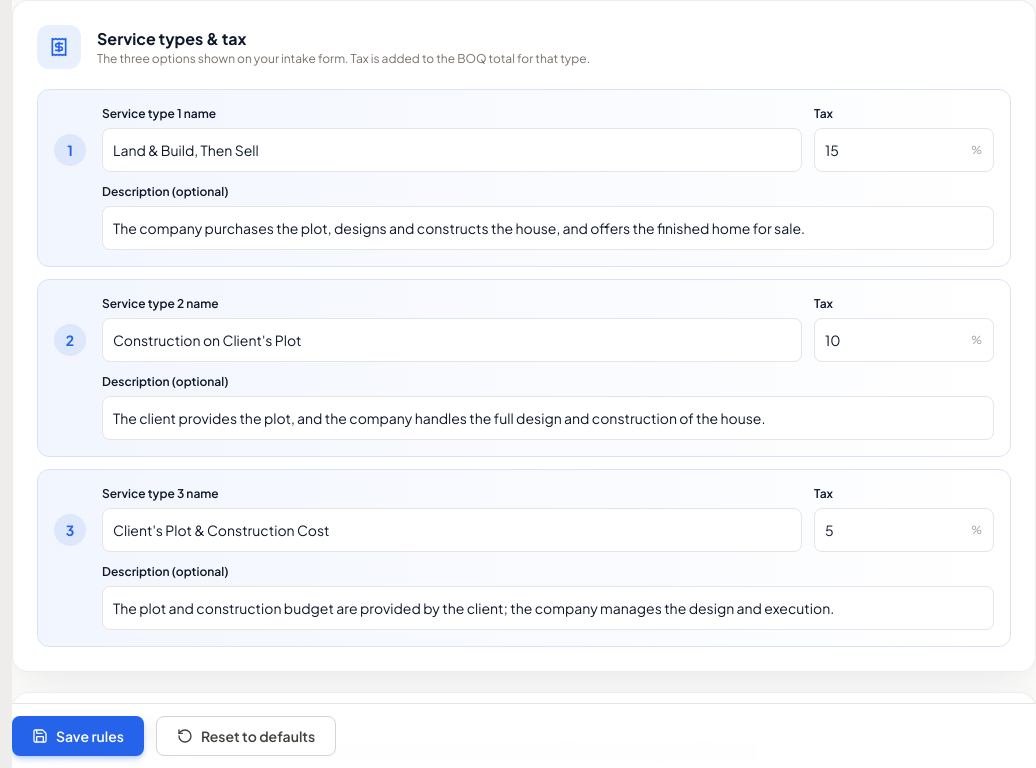
it: RulesForm › shows the server's validation error and no success message
The image size is (1036, 768).
What coordinates should you click on to do the following:
click the button "Save rules"
I would click on:
 (78, 736)
Its box is [12, 716, 144, 756].
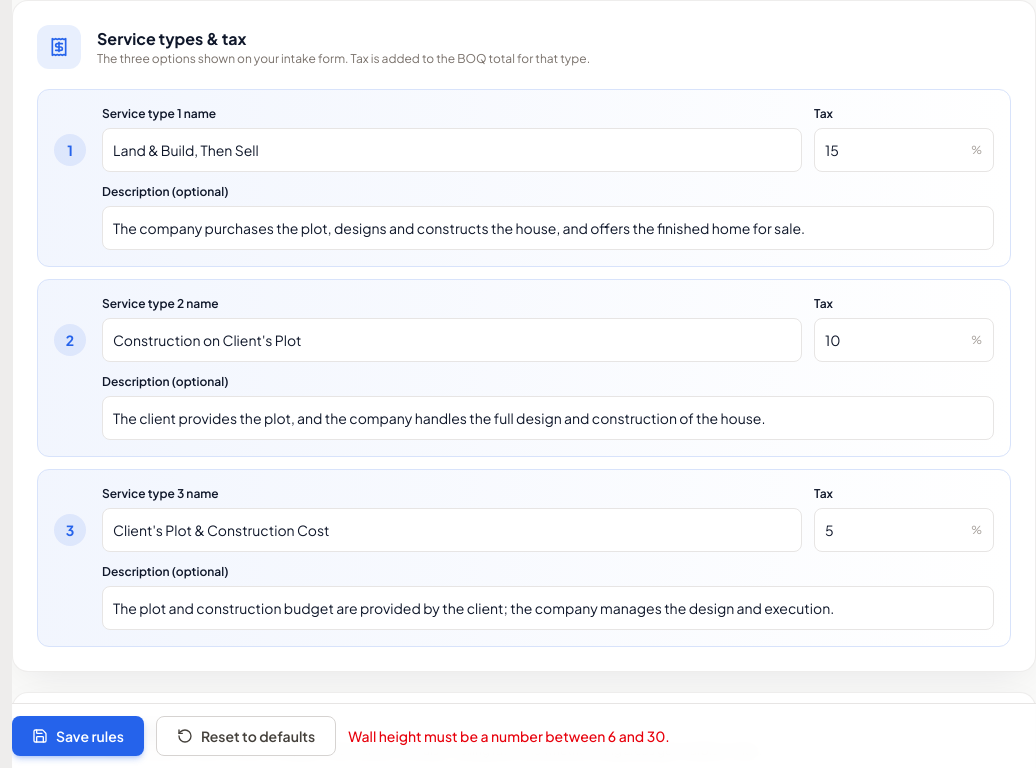
Now the message shows "Wall height", box [348, 727, 670, 745]
